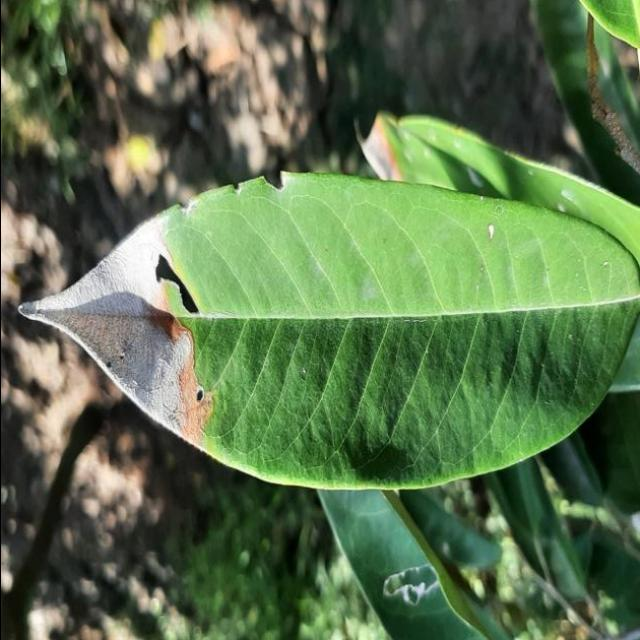Leaf Blight: (8, 153, 640, 508)
